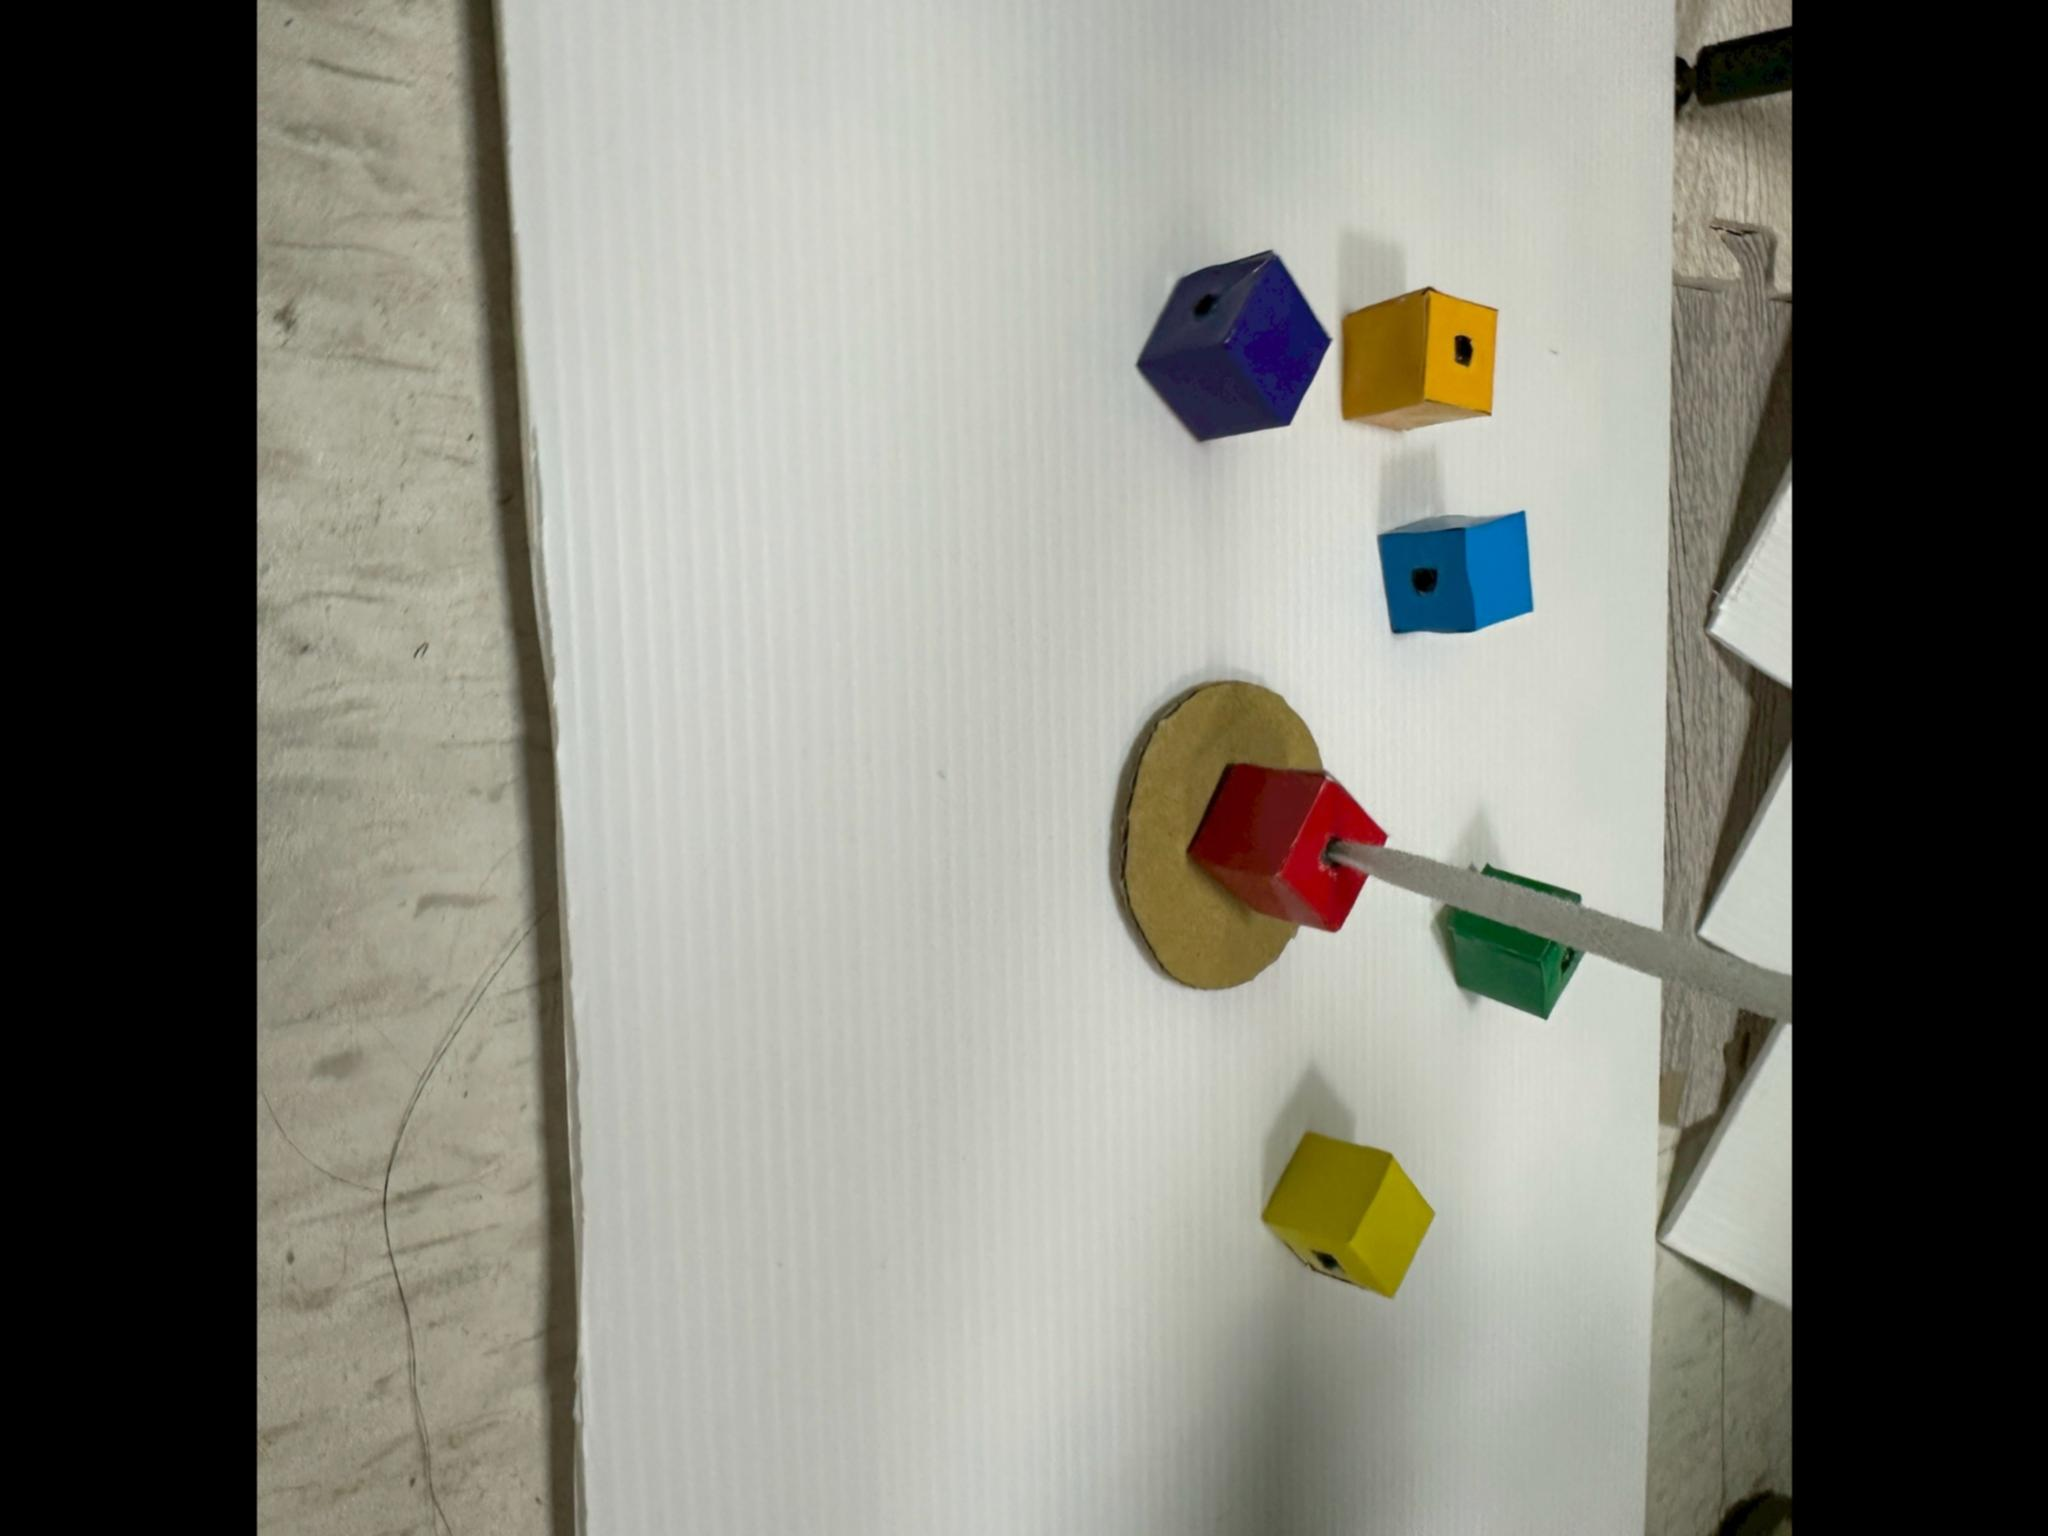base: (1122, 681, 1321, 989)
cube: (1138, 252, 1329, 440), (1187, 765, 1387, 933), (1263, 1134, 1432, 1297), (1342, 289, 1496, 431), (1379, 511, 1532, 634), (1440, 907, 1582, 1020), (1480, 865, 1580, 902)
